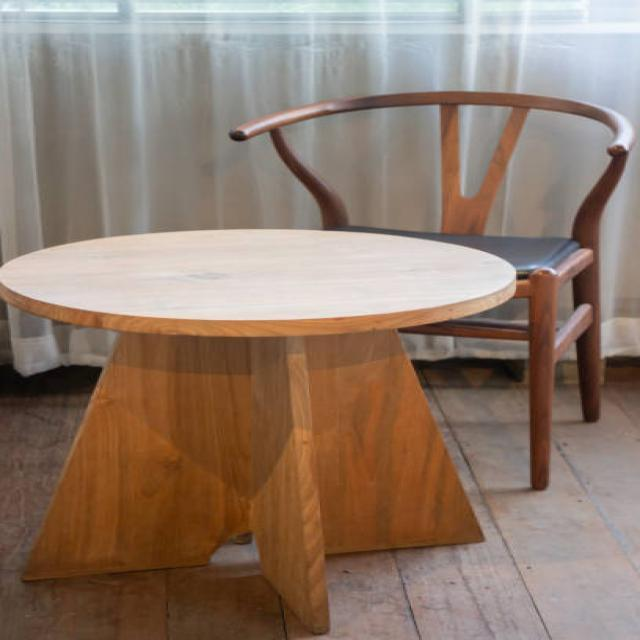table: (0, 226, 518, 634)
